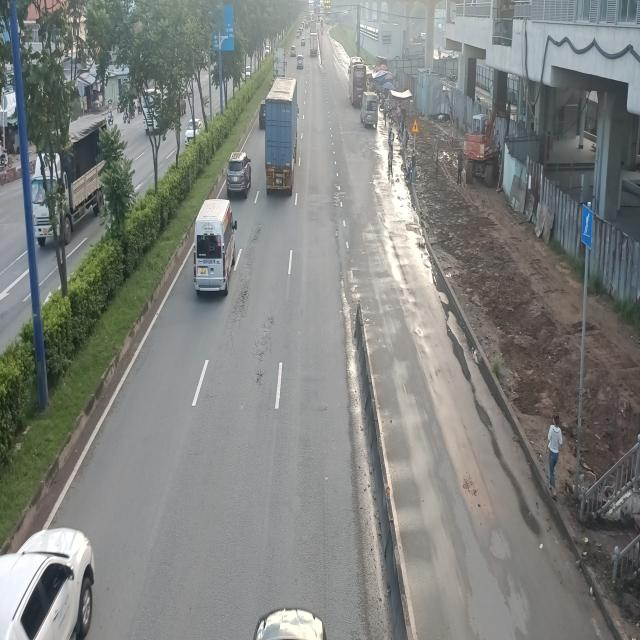car: (225, 152, 251, 199)
coach: (349, 58, 367, 108)
container: (264, 79, 300, 198)
van: (194, 197, 238, 295), (360, 92, 379, 127)
